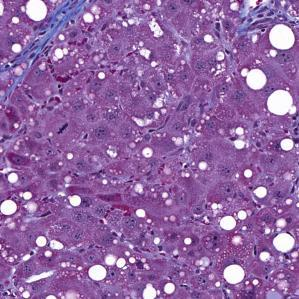fibrosis: (7, 10, 78, 83)
